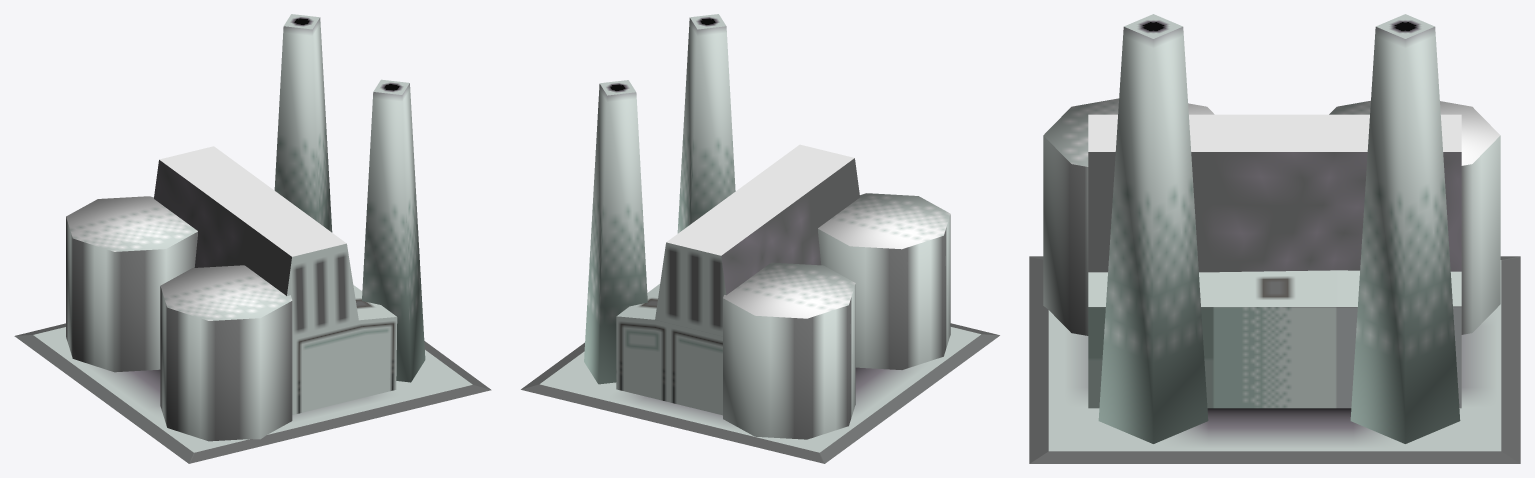
The model's file is Bld_Oil_Refinery_Large05.fbx.
3 views of the same model, side by side, from view 1: azimuth 30°, elevation 25°; view 2: azimuth 150°, elevation 25°; view 3: azimuth 270°, elevation 25° (orthographic). The views are drawn at different scales.
Parts seen in each view (by area): view 1: BLD_OilRefinery_Large05; view 2: BLD_OilRefinery_Large05; view 3: BLD_OilRefinery_Large05.
Boxes of the visible parts, box(x1,y1,x2,y2) form: BLD_OilRefinery_Large05: box(14, 14, 491, 463); BLD_OilRefinery_Large05: box(521, 14, 999, 463); BLD_OilRefinery_Large05: box(1029, 14, 1520, 463).
Size of the model in its own units: 789 by 789 by 713.
